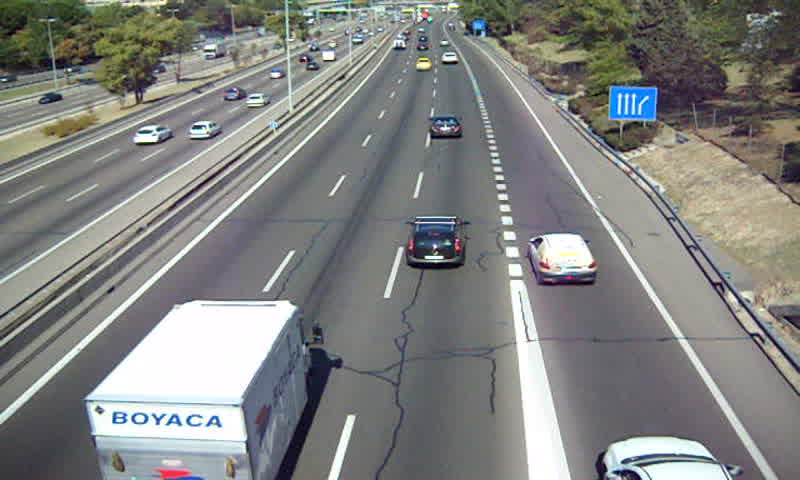car: (528, 233, 597, 284), (406, 216, 464, 268), (428, 114, 462, 137), (414, 57, 432, 73), (440, 50, 459, 64)
small-truck: (82, 298, 309, 480)
